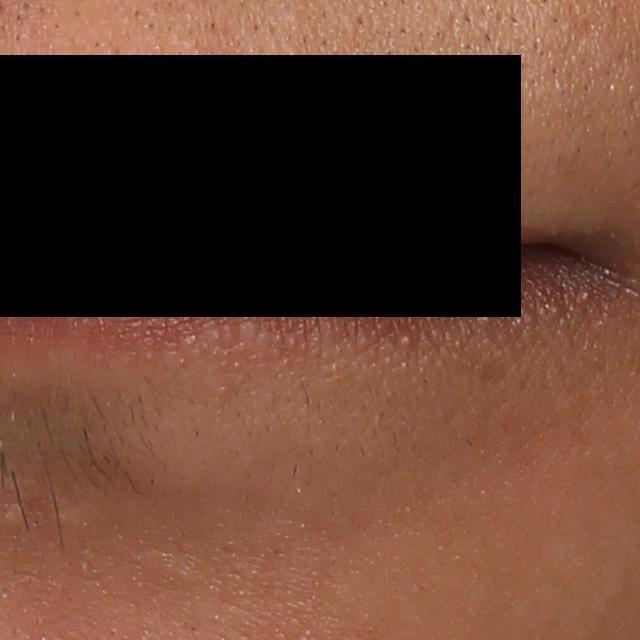comedo: (396, 331, 412, 345)
